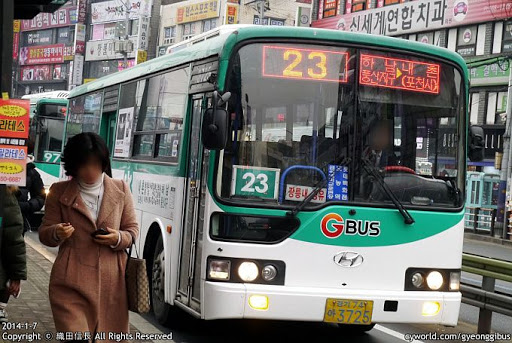bnum: (236, 167, 273, 195)
